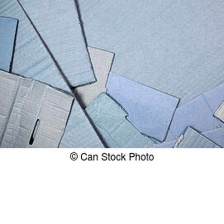book: (0, 0, 109, 149), (14, 0, 100, 91), (92, 67, 182, 144), (0, 65, 78, 148), (147, 76, 223, 150), (81, 86, 162, 150), (67, 43, 118, 110), (169, 124, 224, 150), (0, 13, 20, 76)
